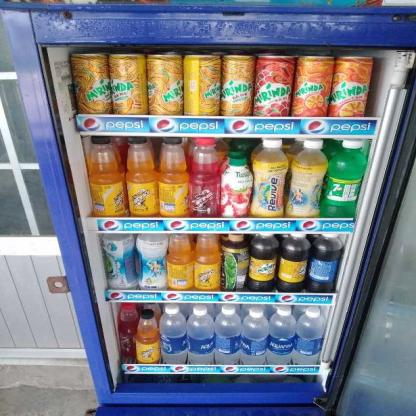7up-chai: (326, 140, 362, 216)
aquafina: (187, 304, 214, 367), (294, 306, 322, 366), (160, 304, 186, 365), (267, 308, 293, 364), (214, 306, 239, 364), (241, 307, 266, 364)
mirinda-cam: (332, 56, 371, 115), (295, 56, 329, 118)
mirinda-me: (71, 52, 110, 112), (182, 55, 219, 115), (110, 54, 146, 114), (220, 54, 254, 116), (147, 55, 181, 113)
mirinda-xaxi: (256, 54, 290, 117)
mirinda-xaxi-chai: (280, 233, 308, 291), (250, 234, 276, 294)
olong-tea-chai: (220, 234, 247, 291)
revive-chanhmuoi-chai: (292, 140, 323, 219), (254, 138, 284, 217)
revive-white-chai: (99, 235, 134, 289), (136, 234, 166, 290)
string-red-chai: (190, 138, 221, 216)
string-yellow-chai: (88, 136, 124, 216), (124, 137, 157, 217), (157, 138, 189, 217), (193, 233, 220, 290), (166, 232, 193, 288), (134, 308, 159, 364)
twister-dau: (223, 158, 250, 216)
